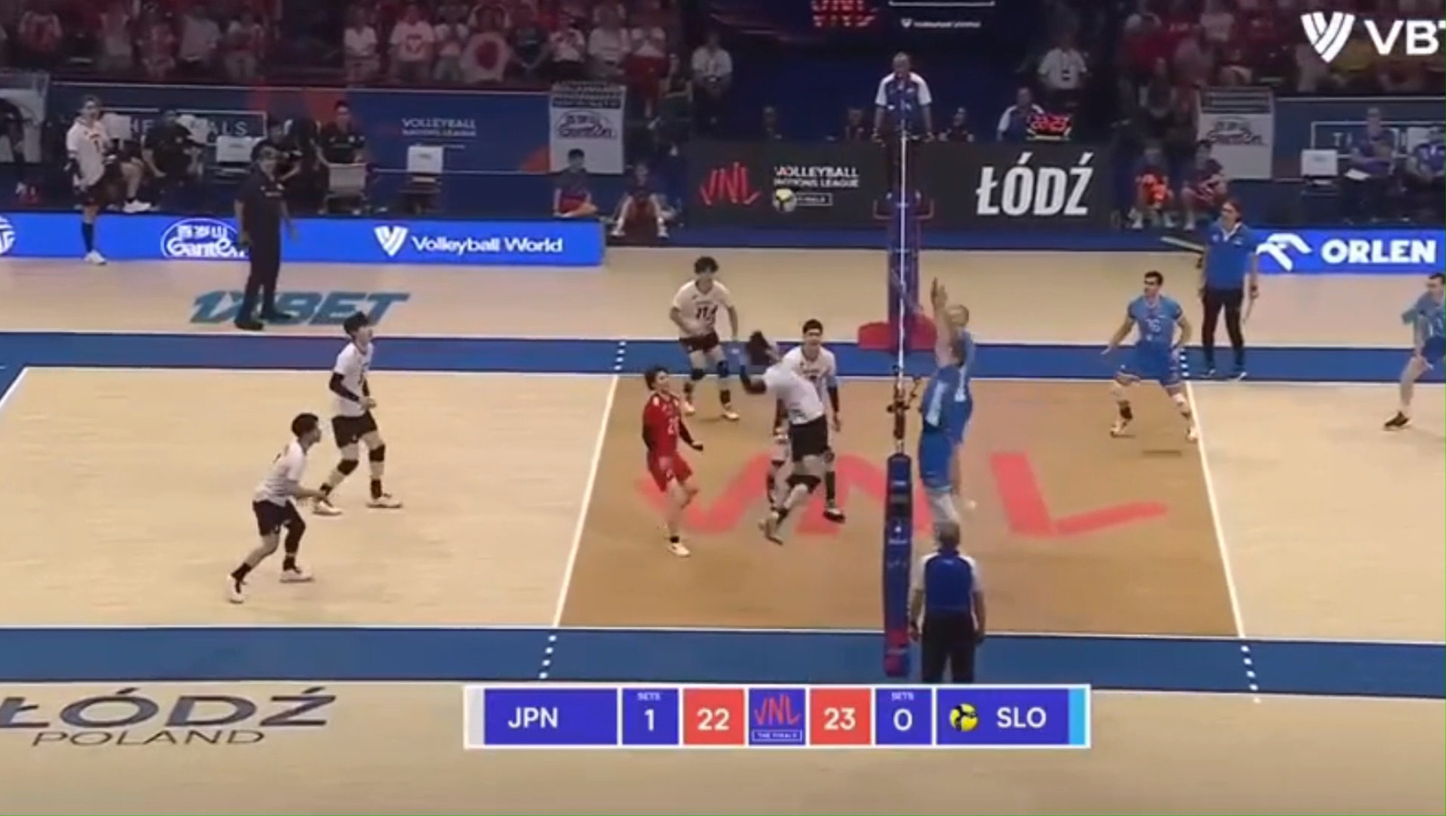ball: (773, 187, 795, 211)
player: (1106, 270, 1197, 441), (915, 281, 974, 527), (1383, 273, 1445, 429)
player 1: (739, 331, 833, 542), (314, 312, 402, 515), (229, 413, 321, 602), (782, 319, 845, 523), (669, 256, 739, 420), (642, 366, 701, 557), (770, 428, 789, 478)
referee: (908, 522, 986, 683), (1200, 200, 1260, 378), (233, 144, 290, 331), (873, 52, 932, 220)
